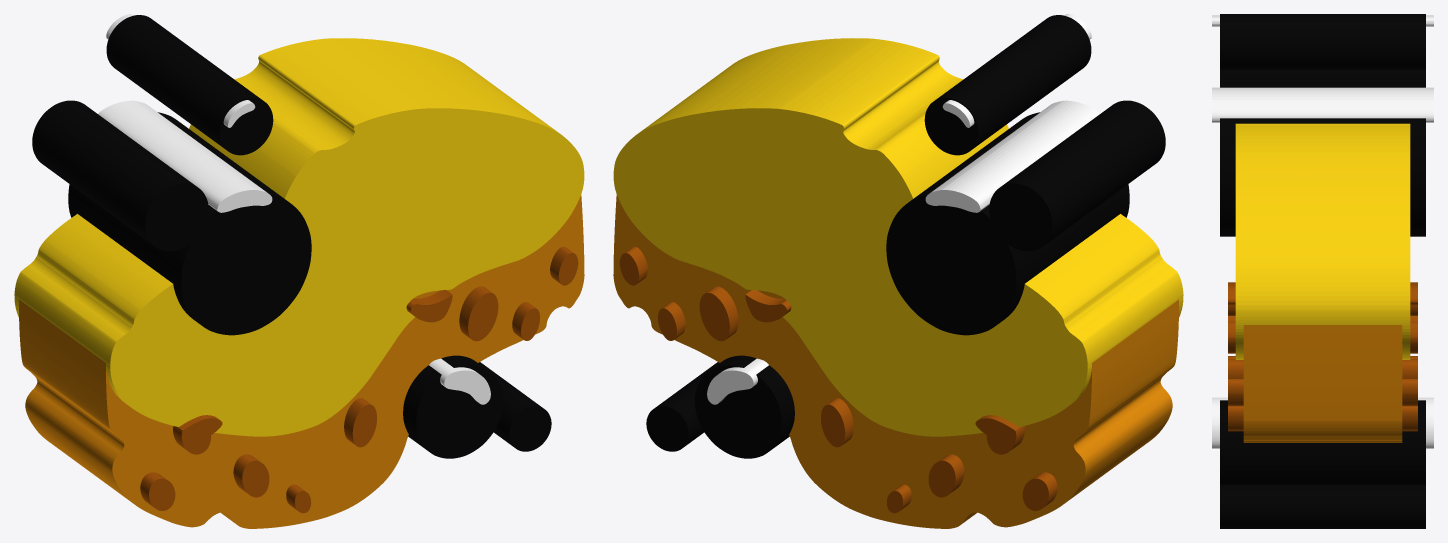
3 views of the same model, side by side, from view 1: azimuth 30°, elevation 25°; view 2: azimuth 150°, elevation 25°; view 3: azimuth 270°, elevation 25° (orthographic). The views are drawn at different scales.
Visible parts, largest first — view 1: U+1F9FD_layer01_obj00, U+1F9FD_layer00_obj00, U+1F9FD_layer03_obj00, U+1F9FD_layer03_obj02, U+1F9FD_layer03_obj01, U+1F9FD_layer03_obj03, U+1F9FD_layer04_obj00, U+1F9FD_layer03_obj04, U+1F9FD_layer02_obj03, U+1F9FD_layer04_obj02, U+1F9FD_layer02_obj06, U+1F9FD_layer02_obj02 (+5 smaller); view 2: U+1F9FD_layer01_obj00, U+1F9FD_layer00_obj00, U+1F9FD_layer03_obj00, U+1F9FD_layer03_obj02, U+1F9FD_layer03_obj01, U+1F9FD_layer03_obj03, U+1F9FD_layer04_obj00, U+1F9FD_layer03_obj04, U+1F9FD_layer02_obj03, U+1F9FD_layer04_obj02, U+1F9FD_layer02_obj06, U+1F9FD_layer02_obj02 (+5 smaller); view 3: U+1F9FD_layer01_obj00, U+1F9FD_layer00_obj00, U+1F9FD_layer03_obj01, U+1F9FD_layer03_obj03, U+1F9FD_layer03_obj04, U+1F9FD_layer04_obj00, U+1F9FD_layer03_obj00, U+1F9FD_layer03_obj02, U+1F9FD_layer02_obj04, U+1F9FD_layer04_obj02, U+1F9FD_layer02_obj07, U+1F9FD_layer02_obj03 (+2 smaller).
Part boxes in pixels (bbox=[...]): U+1F9FD_layer01_obj00: bbox=[14, 38, 584, 436]; U+1F9FD_layer00_obj00: bbox=[19, 195, 584, 528]; U+1F9FD_layer03_obj00: bbox=[68, 112, 311, 335]; U+1F9FD_layer03_obj02: bbox=[32, 100, 208, 251]; U+1F9FD_layer03_obj01: bbox=[106, 15, 273, 155]; U+1F9FD_layer03_obj03: bbox=[403, 355, 503, 458]; U+1F9FD_layer04_obj00: bbox=[98, 100, 272, 212]; U+1F9FD_layer03_obj04: bbox=[478, 362, 551, 451]; U+1F9FD_layer02_obj03: bbox=[459, 286, 498, 341]; U+1F9FD_layer04_obj02: bbox=[429, 358, 490, 404]; U+1F9FD_layer02_obj06: bbox=[173, 415, 222, 454]; U+1F9FD_layer02_obj02: bbox=[344, 398, 376, 447]; U+1F9FD_layer01_obj00: bbox=[613, 38, 1183, 436]; U+1F9FD_layer00_obj00: bbox=[613, 195, 1178, 528]; U+1F9FD_layer03_obj00: bbox=[886, 112, 1129, 335]; U+1F9FD_layer03_obj02: bbox=[989, 100, 1165, 251]; U+1F9FD_layer03_obj01: bbox=[924, 15, 1091, 155]; U+1F9FD_layer03_obj03: bbox=[694, 355, 794, 458]; U+1F9FD_layer04_obj00: bbox=[925, 100, 1099, 212]; U+1F9FD_layer03_obj04: bbox=[646, 362, 719, 451]; U+1F9FD_layer02_obj03: bbox=[699, 286, 738, 341]; U+1F9FD_layer04_obj02: bbox=[707, 358, 768, 404]; U+1F9FD_layer02_obj06: bbox=[975, 415, 1024, 454]; U+1F9FD_layer02_obj02: bbox=[821, 398, 853, 447]; U+1F9FD_layer01_obj00: bbox=[1235, 123, 1410, 359]; U+1F9FD_layer00_obj00: bbox=[1243, 325, 1402, 442]; U+1F9FD_layer03_obj01: bbox=[1220, 14, 1425, 70]; U+1F9FD_layer03_obj03: bbox=[1220, 400, 1425, 484]; U+1F9FD_layer03_obj04: bbox=[1220, 484, 1425, 528]; U+1F9FD_layer04_obj00: bbox=[1212, 87, 1433, 122]; U+1F9FD_layer03_obj00: bbox=[1220, 118, 1425, 236]; U+1F9FD_layer03_obj02: bbox=[1220, 70, 1425, 87]; U+1F9FD_layer02_obj04: bbox=[1228, 379, 1417, 406]; U+1F9FD_layer04_obj02: bbox=[1212, 397, 1433, 448]; U+1F9FD_layer02_obj07: bbox=[1228, 406, 1417, 431]; U+1F9FD_layer02_obj03: bbox=[1228, 359, 1417, 378].
Bounding box in the file's own units: 0.3175 × 0.2861 × 0.14.
